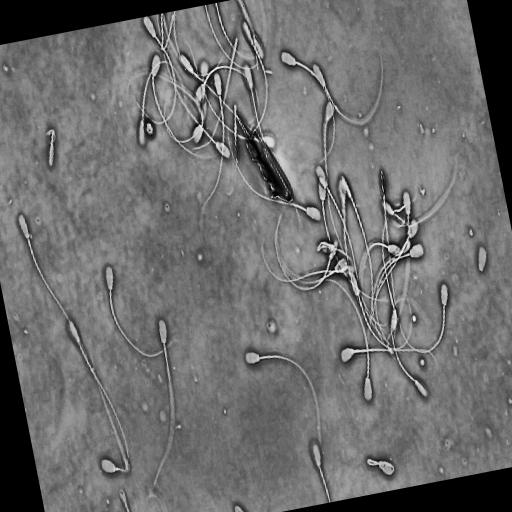coiled-tail: (366, 456, 382, 468), (46, 129, 56, 143)
dirt-particles: (235, 108, 299, 208)
folded-tail: (88, 345, 128, 471)
loose-head: (475, 238, 492, 275)
normal: (313, 161, 389, 330), (15, 209, 92, 371), (156, 16, 231, 159), (299, 274, 376, 411), (240, 342, 325, 462), (226, 125, 323, 223), (318, 176, 391, 304), (149, 51, 225, 164), (79, 322, 133, 479), (276, 44, 341, 174), (103, 258, 178, 365), (143, 314, 179, 506), (311, 41, 384, 128), (370, 216, 420, 335), (340, 173, 374, 342), (127, 17, 179, 127), (323, 100, 351, 276), (136, 57, 189, 149), (388, 294, 433, 399), (395, 279, 452, 359), (193, 62, 260, 127), (359, 240, 404, 330), (201, 71, 226, 211), (241, 18, 269, 140), (338, 342, 441, 369), (362, 449, 399, 478), (43, 122, 60, 176)
